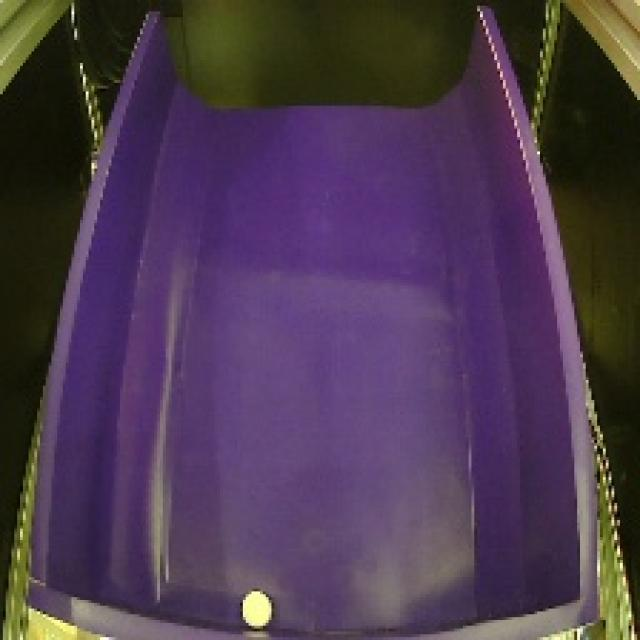small: (238, 582, 278, 632)
